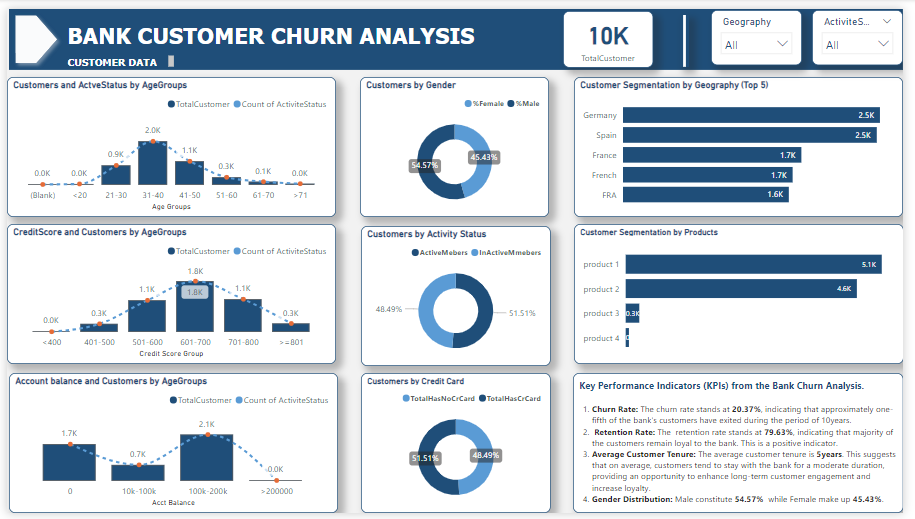

The page's visual inventory and layout, read from the dashboard file:
{"tool":"powerbi","page":{"name":"Page 1","canvas":[1280,720],"ordinal":0},"visuals":[{"type":"shape","box":[2.9,0,1277.1,87.1],"z":0},{"type":"barChart","title":"Customer Segmentation by Geography (Top 5)","fields":{"Category":["Customer_Info.Geography"],"Y":["Customer_Info.TotalCustomer"]},"box":[810,97.1,470,200],"z":1000},{"type":"lineClusteredColumnComboChart","title":"Customers and ActveStatus by AgeGroups","fields":{"Y":["Customer_Info.TotalCustomer"],"Y2":["CountNonNull(Account_Info.IsActiveMember)"],"Category":["Age Group.Age Groups"]},"box":[0,97.8,470,199.8],"z":2000},{"type":"donutChart","title":"Customers by Gender ","fields":{"Y":["Customer_Info.%Female","Customer_Info.%Female","Customer_Info.%Male","Customer_Info.%Male"]},"box":[504.3,97.1,270,200],"z":3000},{"type":"slicer","fields":{"Values":["Customer_Info.Geography"]},"box":[1006.3,1.4,130.4,79.4],"z":5000},{"type":"card","fields":{"Values":["Customer_Info.TotalCustomer"]},"box":[794.3,2.9,128.6,81.4],"z":6000},{"type":"donutChart","title":"Customers by Activity Status","fields":{"Y":["Account_Info.TotalActiveMmebers","Account_Info.TotalIsNotActiveMmebers"]},"box":[506.1,310.4,270.7,199.8],"z":7000},{"type":"donutChart","title":"Customers by Credit Card","fields":{"Y":["Account_Info.TotalHasNoCrCard","Account_Info.TotalHasNoCrCard","Account_Info.TotalHasCrCard"]},"box":[505.7,520.2,270.7,199.8],"z":8000},{"type":"barChart","title":"Customer Segmentation by Products","fields":{"Y":["Customer_Info.TotalCustomer"],"Category":["Account_Info.Products"]},"box":[809.4,307.6,470.6,199.8],"z":9000},{"type":"lineClusteredColumnComboChart","title":"CreditScore and Customers by AgeGroups","fields":{"Y":["Customer_Info.TotalCustomer"],"Y2":["CountNonNull(Account_Info.IsActiveMember)"],"Category":["CreditScoreGroup.Credit Score Group"]},"box":[0,307.6,470,199.8],"z":10000},{"type":"lineClusteredColumnComboChart","title":"Account balance and Customers by AgeGroups","fields":{"Y":["Customer_Info.TotalCustomer"],"Y2":["CountNonNull(Account_Info.IsActiveMember)"],"Category":["Acct Balance.Acct Balance"]},"box":[2.8,520.2,470,199.8],"z":11000},{"type":"slicer","fields":{"Values":["Account_Info.ActiviteStatus"]},"box":[1149.4,1.4,130.4,79.4],"z":12000},{"type":"textbox","box":[80.8,12.8,612.3,68],"z":13000},{"type":"textbox","box":[808,520,472,200],"z":14000},{"type":"shape","box":[2.8,0,78,86.5],"z":15000},{"type":"shape","box":[961.4,8.6,12.9,74.3],"z":16000},{"type":"textbox","box":[80.8,60.9,161.6,26.9],"z":18000}]}

Visuals, with their boxes in screenshot pixels (x1, y1, x2, y2), scaled from the page's 1280x720 canvas onto the 915x519 screenshot:
shape: x1=2 y1=0 x2=914 y2=63
"Customer Segmentation by Geography (Top 5)" barChart: x1=579 y1=70 x2=914 y2=214
"Customers and ActveStatus by AgeGroups" lineClusteredColumnComboChart: x1=0 y1=70 x2=336 y2=215
"Customers by Gender " donutChart: x1=360 y1=70 x2=554 y2=214
slicer - Customer_Info.Geography: x1=719 y1=1 x2=813 y2=58
card - Customer_Info.TotalCustomer: x1=568 y1=2 x2=660 y2=61
"Customers by Activity Status" donutChart: x1=362 y1=224 x2=555 y2=368
"Customers by Credit Card" donutChart: x1=361 y1=375 x2=555 y2=518
"Customer Segmentation by Products" barChart: x1=579 y1=222 x2=914 y2=366
"CreditScore and Customers by AgeGroups" lineClusteredColumnComboChart: x1=0 y1=222 x2=336 y2=366
"Account balance and Customers by AgeGroups" lineClusteredColumnComboChart: x1=2 y1=375 x2=338 y2=518
slicer - Account_Info.ActiviteStatus: x1=822 y1=1 x2=914 y2=58
textbox: x1=58 y1=9 x2=495 y2=58
textbox: x1=578 y1=375 x2=914 y2=518
shape: x1=2 y1=0 x2=58 y2=62
shape: x1=687 y1=6 x2=696 y2=60
textbox: x1=58 y1=44 x2=173 y2=63
